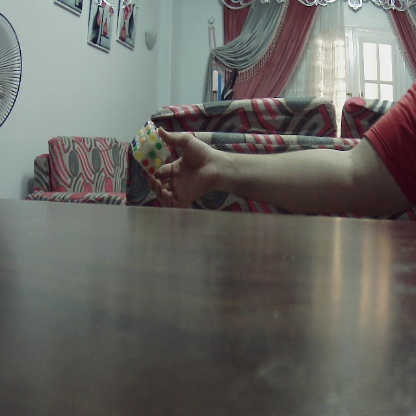Rubix Cube: (129, 119, 171, 176)
